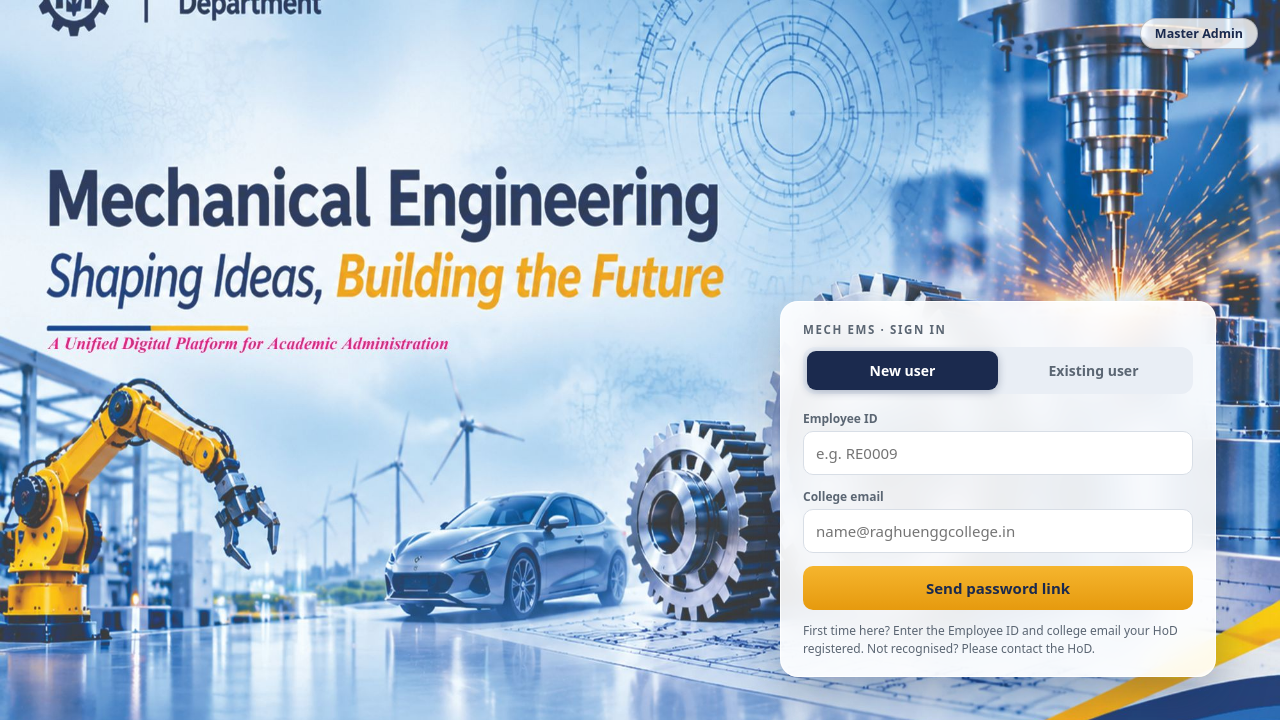
when the ID and email match, the password link is emailed and the page says so
This screenshot has width=1280, height=720.
Type "re0009" into the field labelled "Employee ID". click: (998, 453)
box: [803,431,1193,475]
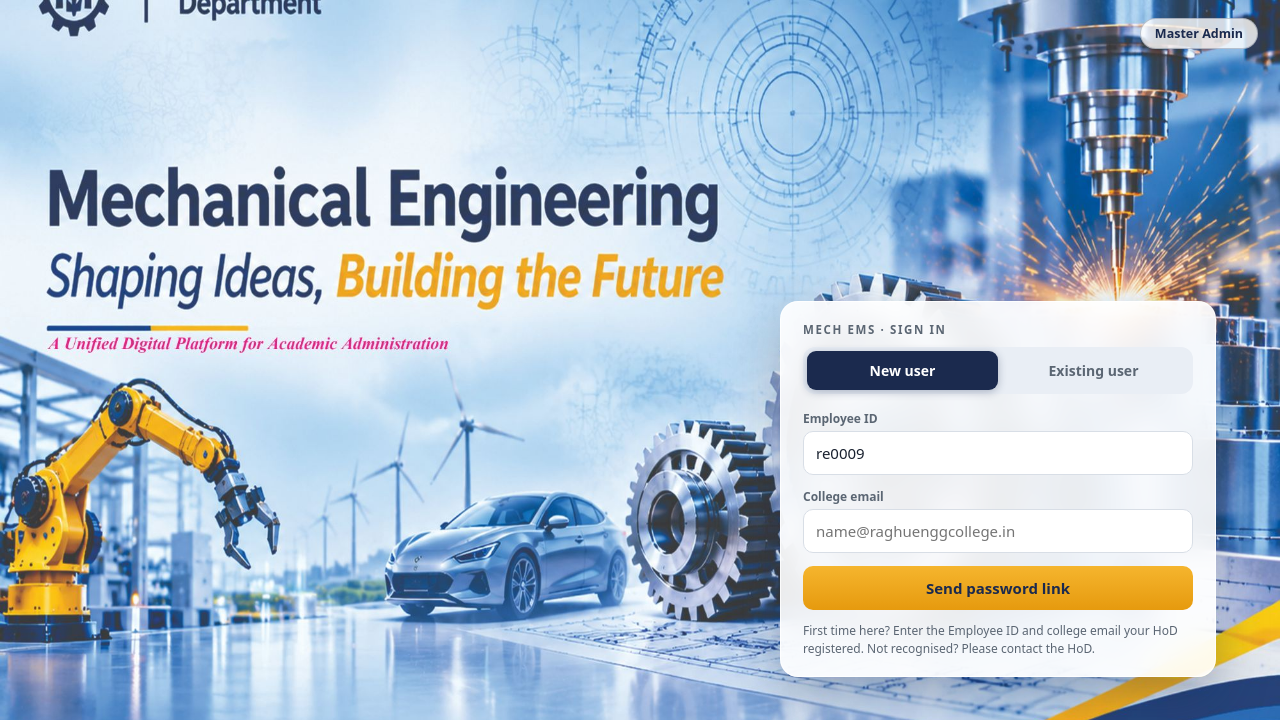
Type "Me@raghuenggcollege.in" into the field labelled "College email". click: (998, 531)
box: [803,509,1193,553]
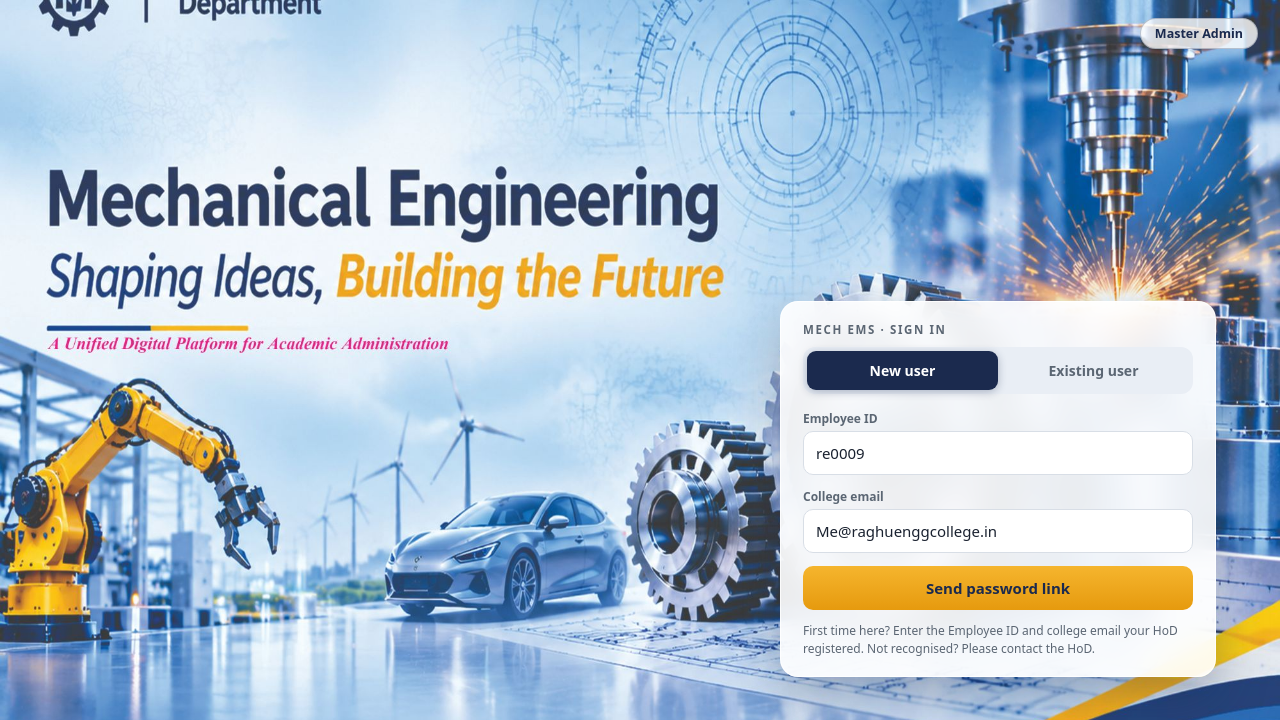
Click the button "Send password link". click: (998, 588)
box: [803,566,1193,610]
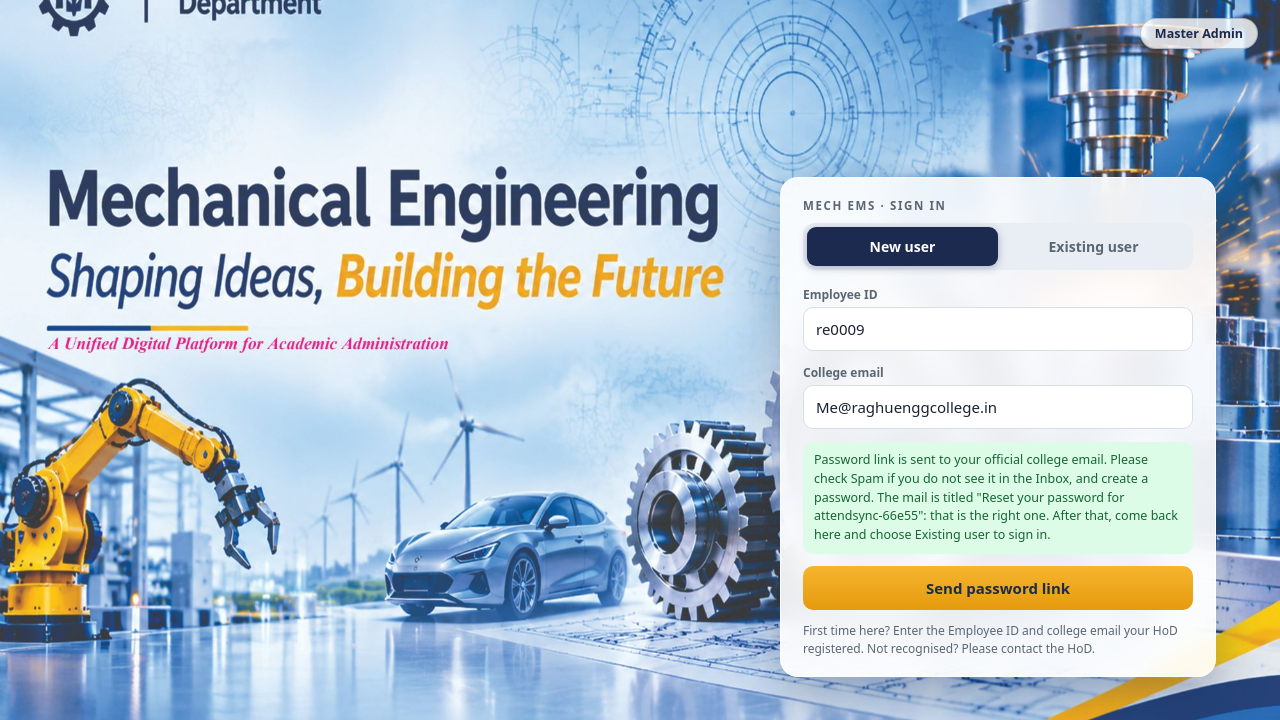
Result: the text "check Spam" is shown at [814,451,1178,543]
